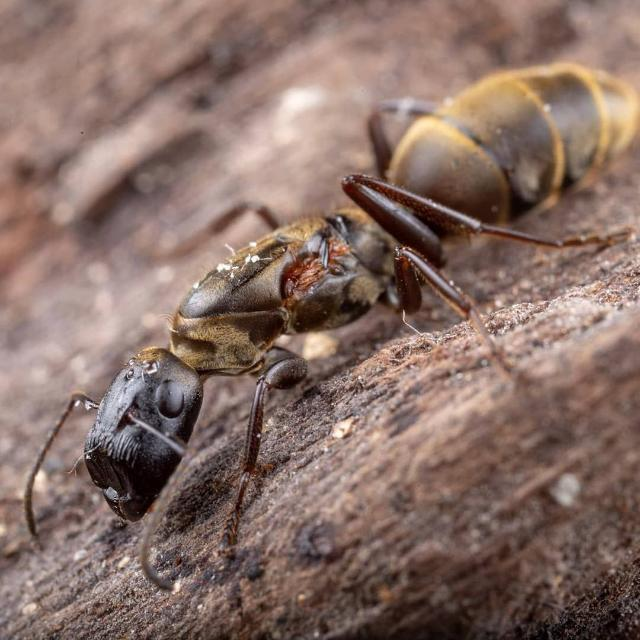Colobopsis: (4, 58, 574, 554)
